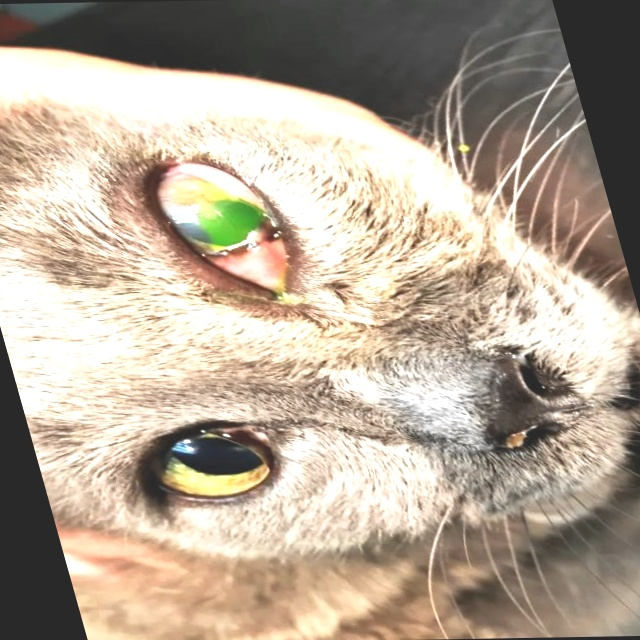eye_infection: (138, 159, 285, 287), (129, 422, 296, 502)
